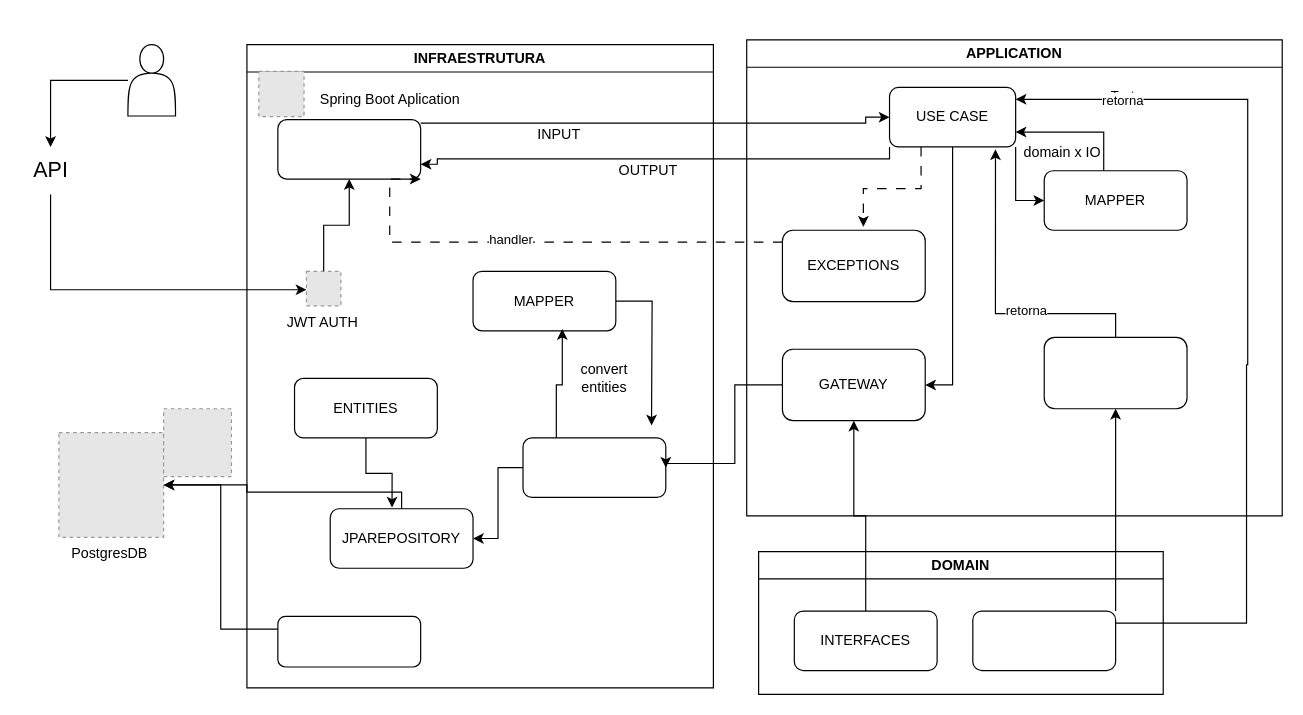
Image size: 1303x715. Some labels were removed from this diagram. Grey dashed boxes stand in for pictures. The centre of each missing label's shape, as x and y in pixels:
"ADAPTER" goes at (x=594, y=467).
"CONTROLLERS" goes at (x=349, y=148).
"FLYWAY" goes at (x=349, y=641).
"MODELS" goes at (x=1044, y=640).
"PRESENTERS" goes at (x=1115, y=372).
"USUÁRIO" goes at (x=151, y=79).
